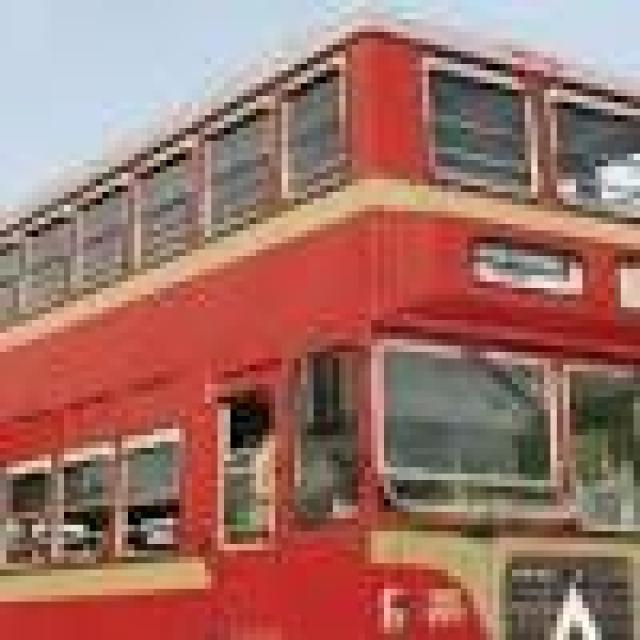BUS: (0, 0, 589, 627)
